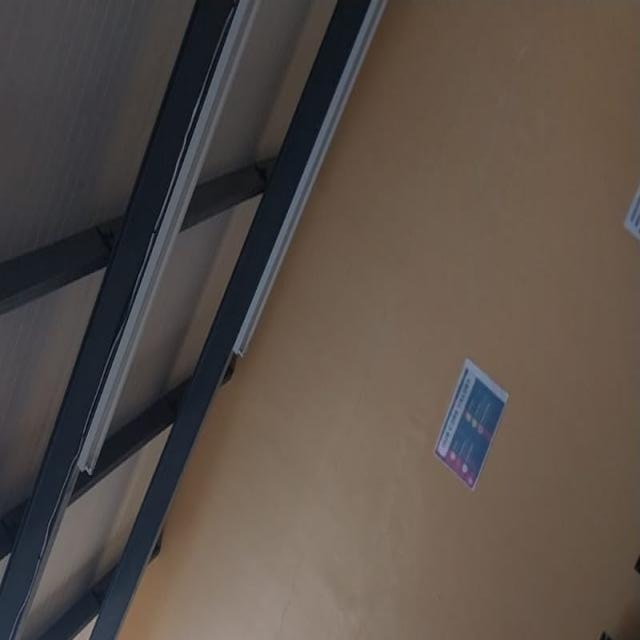fluorescent tube: (60, 0, 264, 505), (220, 0, 408, 409), (1, 612, 149, 640)
